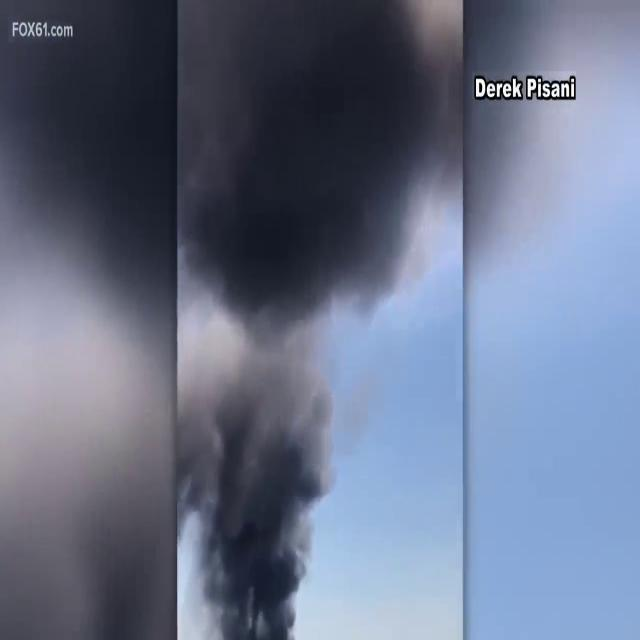Smoke: (176, 0, 458, 640)
